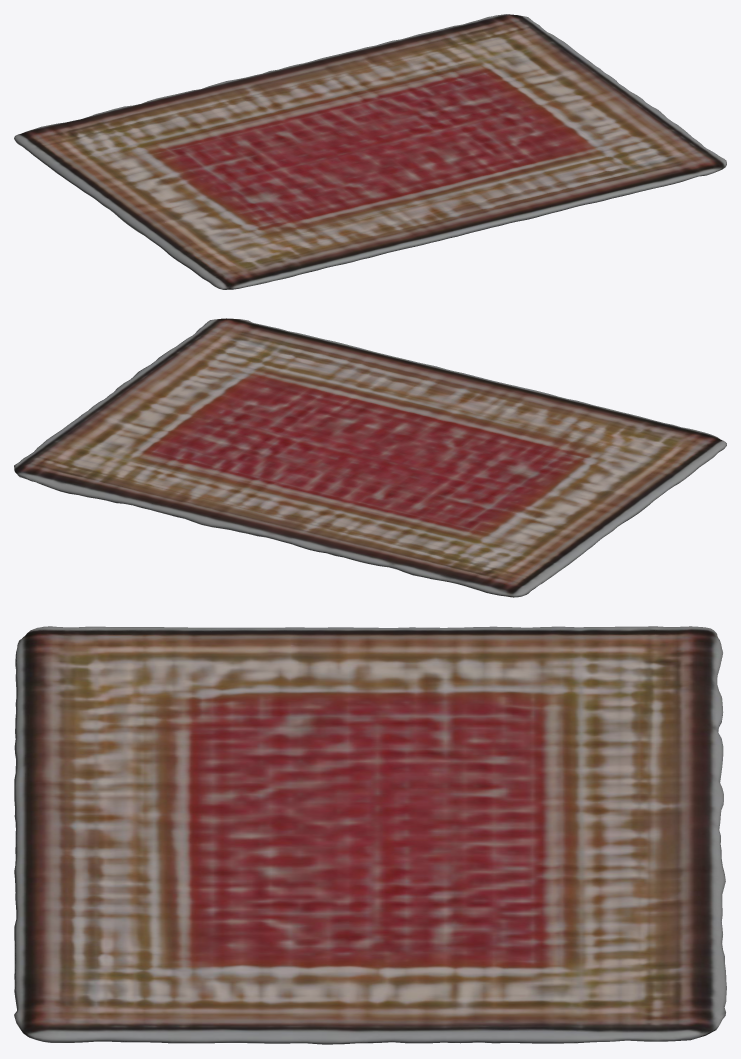
Rendered from a6f2e569ed40_rug__3d_asset_0_glb.fbx.
3 views of the same model, one above another, from view 1: azimuth 30°, elevation 25°; view 2: azimuth 150°, elevation 25°; view 3: azimuth 270°, elevation 25° (orthographic). The views are drawn at different scales.
Parts seen in each view (by area): view 1: mesh; view 2: mesh; view 3: mesh.
Boxes of the visible parts, left/top/right/bottom form: mesh: left=14, top=14, right=726, bottom=289; mesh: left=14, top=318, right=726, bottom=597; mesh: left=14, top=626, right=726, bottom=1044.
Bounding box in the file's own units: 99.78 × 2.06 × 72.69.
